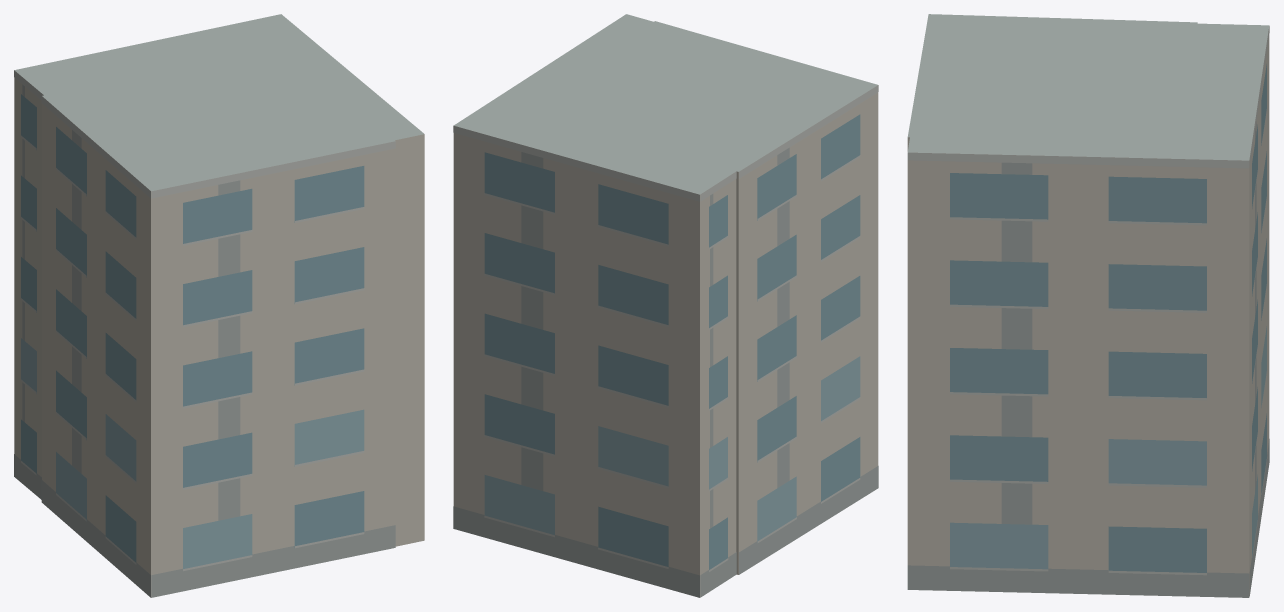
Rendered from survey-upis-32815755.glb.
3 views of the same model, side by side, from view 1: azimuth 30°, elevation 25°; view 2: azimuth 150°, elevation 25°; view 3: azimuth 270°, elevation 25° (orthographic). The views are drawn at different scales.
Parts seen in each view (by area): view 1: survey-upis-32815755.tmp; view 2: survey-upis-32815755.tmp; view 3: survey-upis-32815755.tmp.
Part boxes in pixels (x1=…): survey-upis-32815755.tmp: x1=14, y1=14, x2=424, y2=597; survey-upis-32815755.tmp: x1=453, y1=14, x2=878, y2=597; survey-upis-32815755.tmp: x1=907, y1=14, x2=1269, y2=597.
Bounding box in the file's own units: 9.83 × 13.65 × 10.25.
